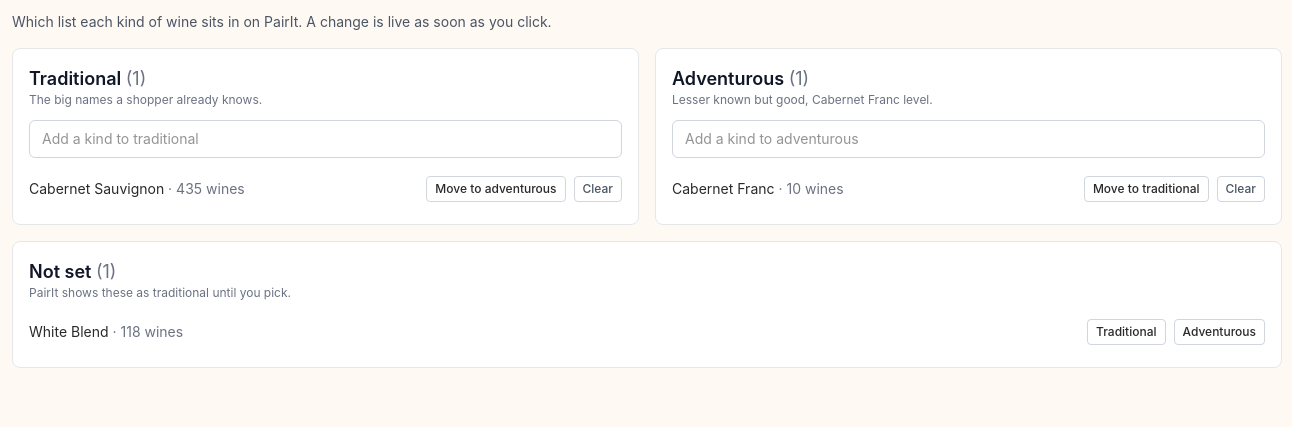
Scenario: WineKindsTab › WK3 Add search leaves out kinds already in that list
In the search field labelled "Add a kind to adventurous": (968, 139) [672,120,1265,158], type "cabernet"
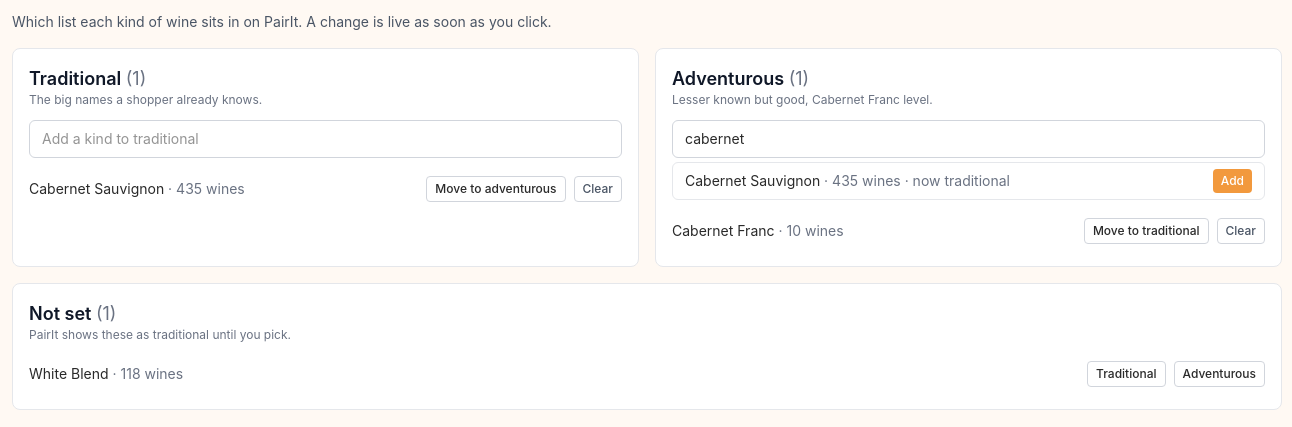
Expected: the number of buttons "Add" is 1, [1213,169,1252,193]
Expected: the list item "Add" shows "Cabernet Sauvignon", [685,172,820,189]
